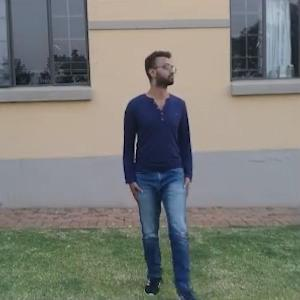follow: (119, 41, 200, 298)
